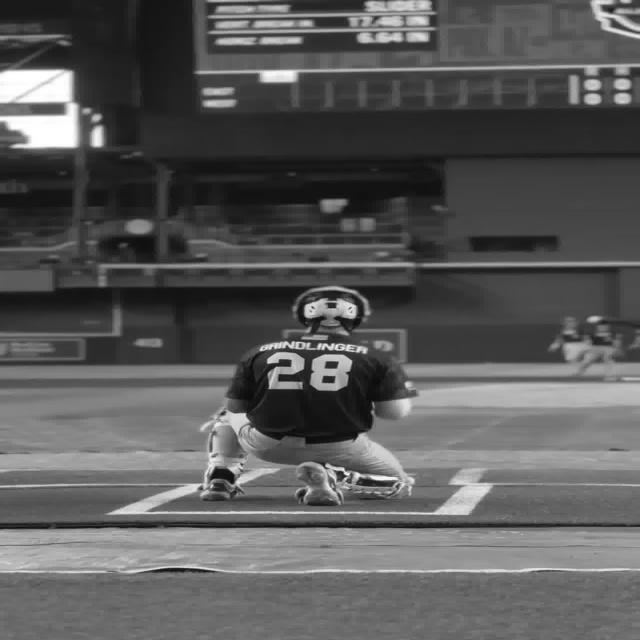shoe: (326, 464, 406, 500), (294, 460, 344, 506), (198, 466, 242, 501)
